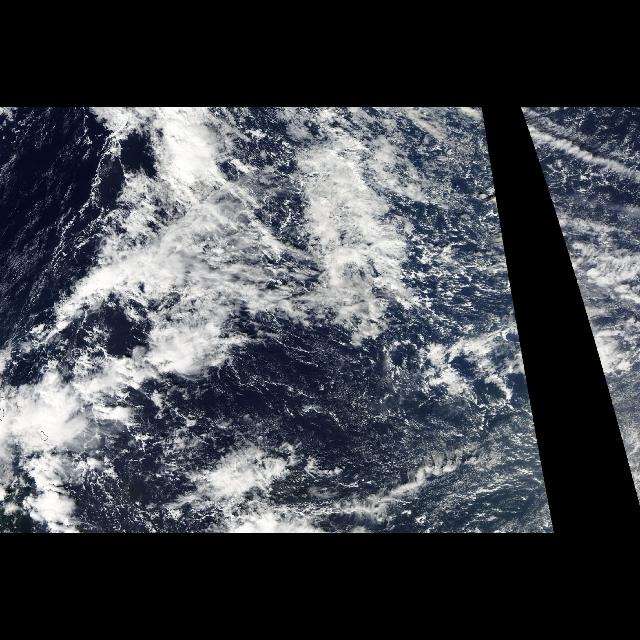Sugar: (255, 113, 553, 531), (1, 110, 75, 322), (522, 114, 538, 162)
